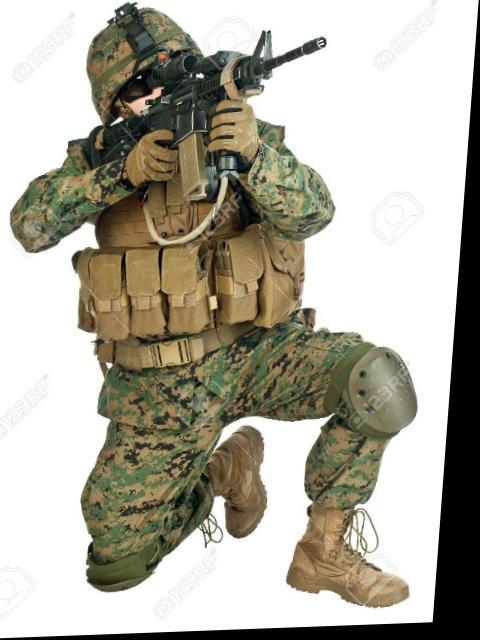other: (37, 6, 350, 581)
